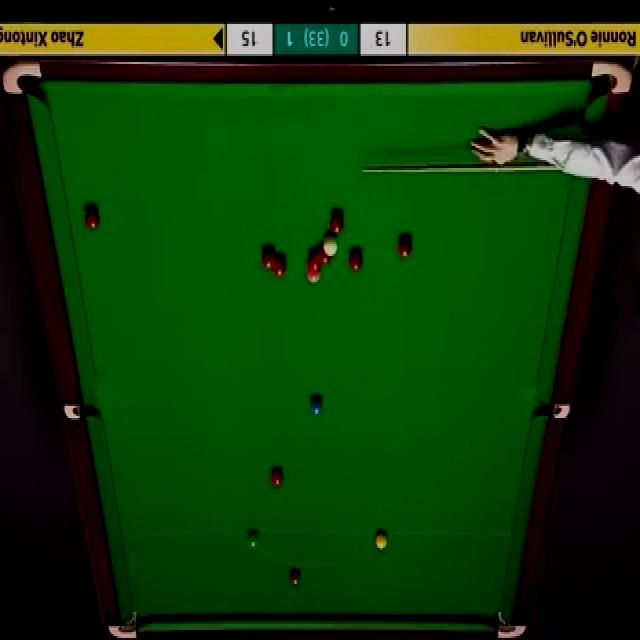pocket: (5, 60, 42, 100), (591, 65, 628, 102), (109, 613, 138, 637), (497, 615, 519, 640), (72, 400, 98, 419), (542, 400, 569, 417)
